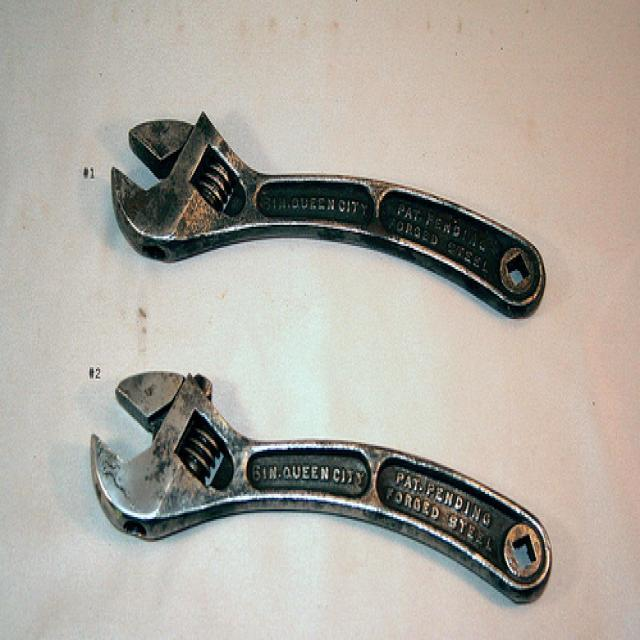wrench: (84, 363, 558, 612), (104, 103, 552, 326)
